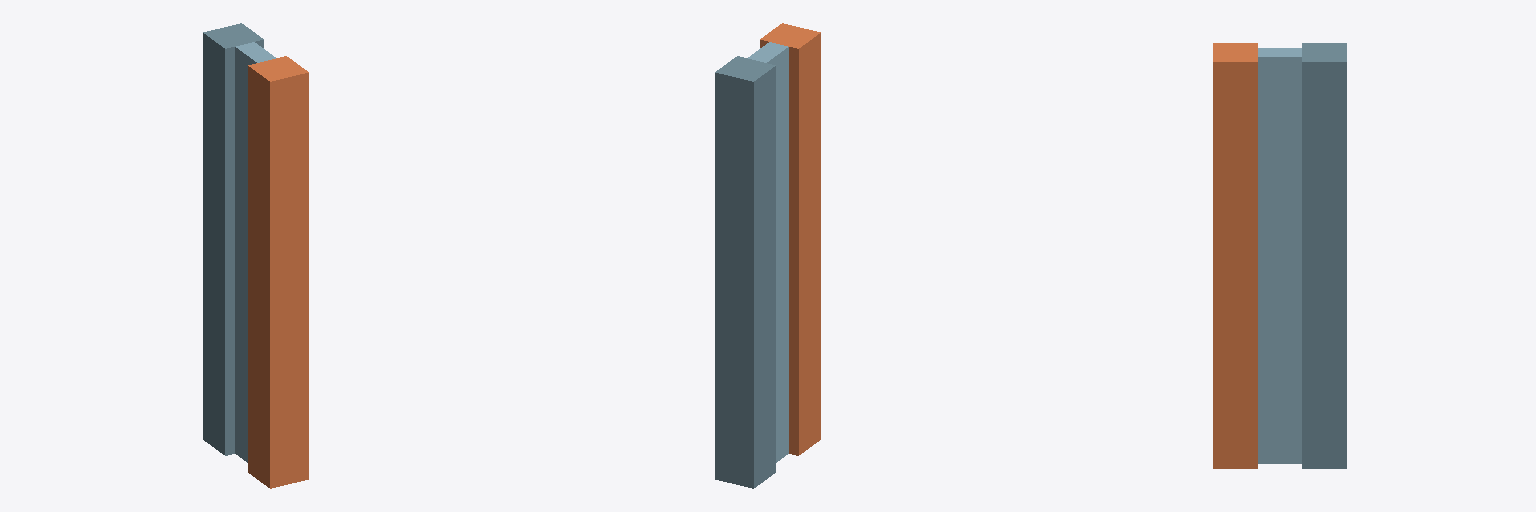
File: wallArch.obj
3 views of the same model, side by side, from view 1: azimuth 30°, elevation 25°; view 2: azimuth 150°, elevation 25°; view 3: azimuth 270°, elevation 25° (orthographic).
Visible parts, largest first — view 1: wallArch; view 2: wallArch; view 3: wallArch.
Part boxes in pixels (left/top/right/bottom): wallArch: left=203, top=23, right=308, bottom=488; wallArch: left=715, top=23, right=820, bottom=488; wallArch: left=1213, top=43, right=1346, bottom=468.
Size of the model in its own units: 0.1 by 1 by 0.3.